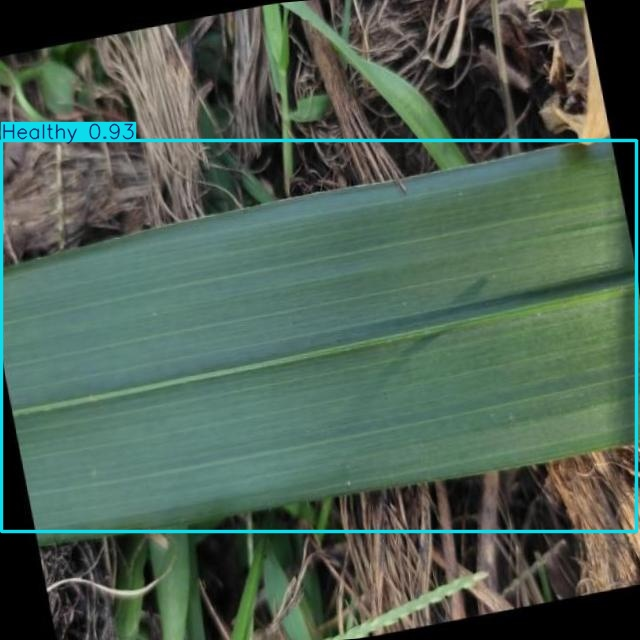Healthy: (1, 141, 637, 532)
